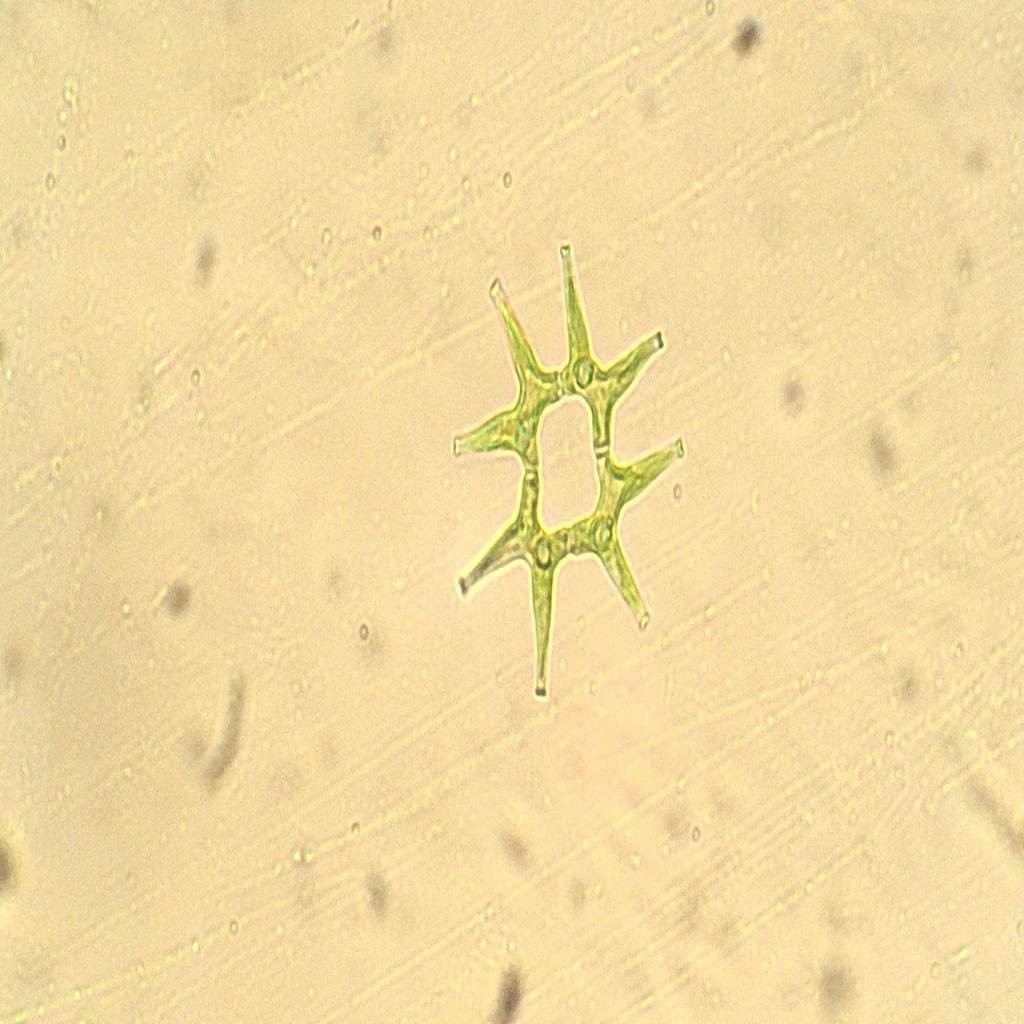Pediastrum_CO: (443, 194, 701, 726)
